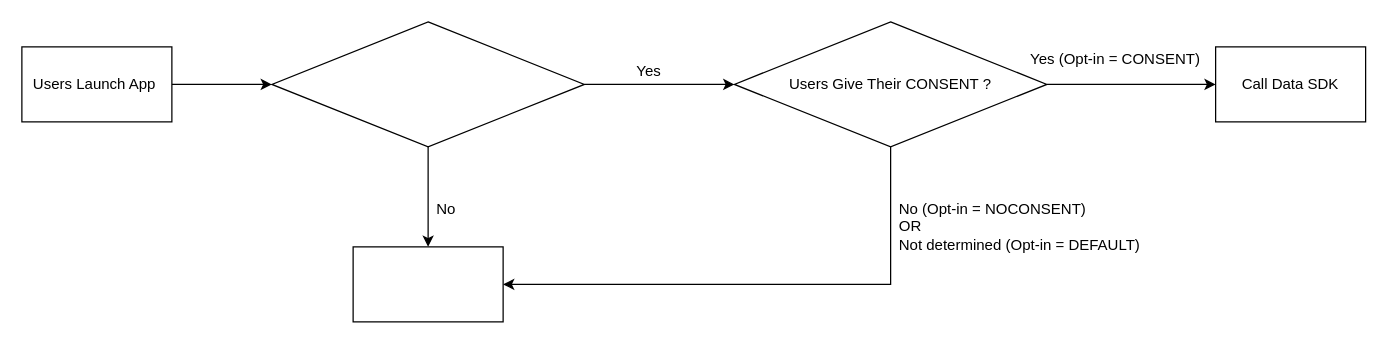
Some shapes in this 1388 by 344 pixel diagram are drawn without their labels. The shapes that lost their labels are listed below. From the top down, each one's box as (x1, y1, x2, y2) in pixels, then its label:
(271, 21, 584, 147): Users allow to BE TRACKED though ATT prompt?
(352, 246, 503, 322): Don't Call Data SDK
